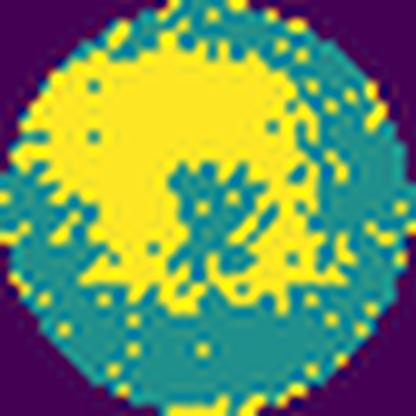Donut: (31, 45, 327, 317)
